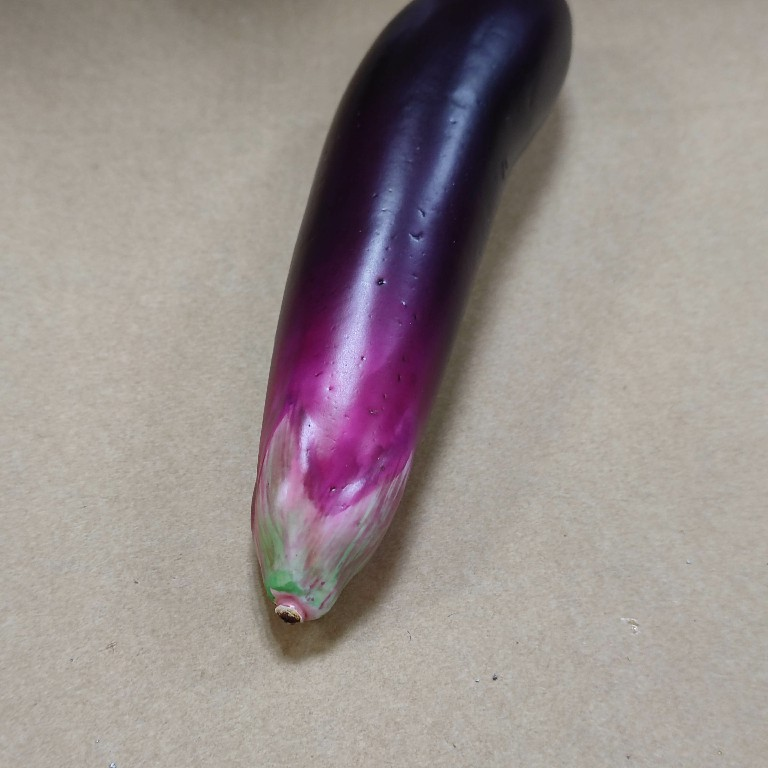fruit_eggplant: (246, 1, 579, 628)
